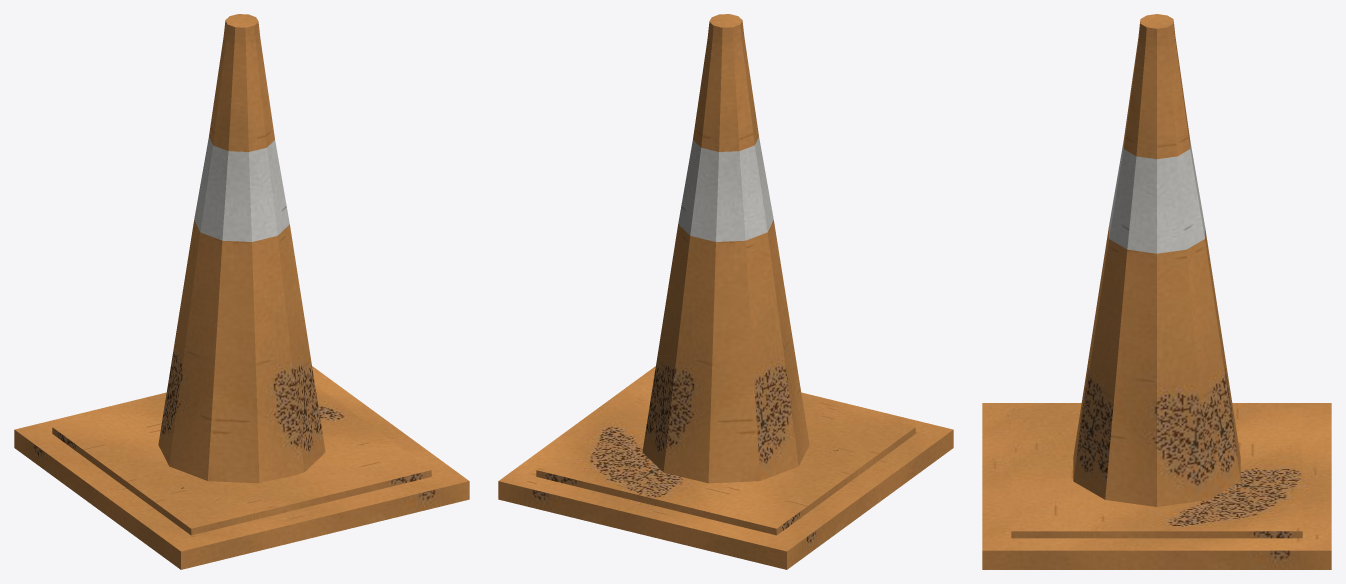
3 renders of one model, left to right at view 1: azimuth 30°, elevation 25°; view 2: azimuth 150°, elevation 25°; view 3: azimuth 270°, elevation 25°, orthographic. The views are drawn at different scales.
Visible parts, largest first — view 1: NC_cone; view 2: NC_cone; view 3: NC_cone.
Boxes of the visible parts, x1,y1,x2,y2 form: NC_cone: (14, 14, 469, 569); NC_cone: (498, 14, 953, 569); NC_cone: (982, 14, 1331, 569).
Size of the model in its own units: 0.36 by 0.54 by 0.36.
Materials: 2 (2 with a texture image).
